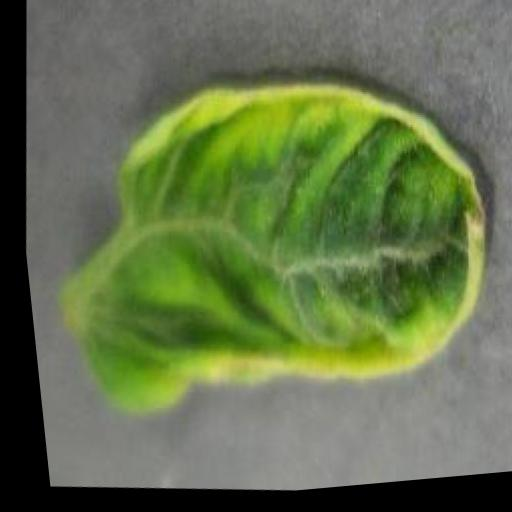Yellow Leaf Curl Virus: (28, 45, 512, 460)
